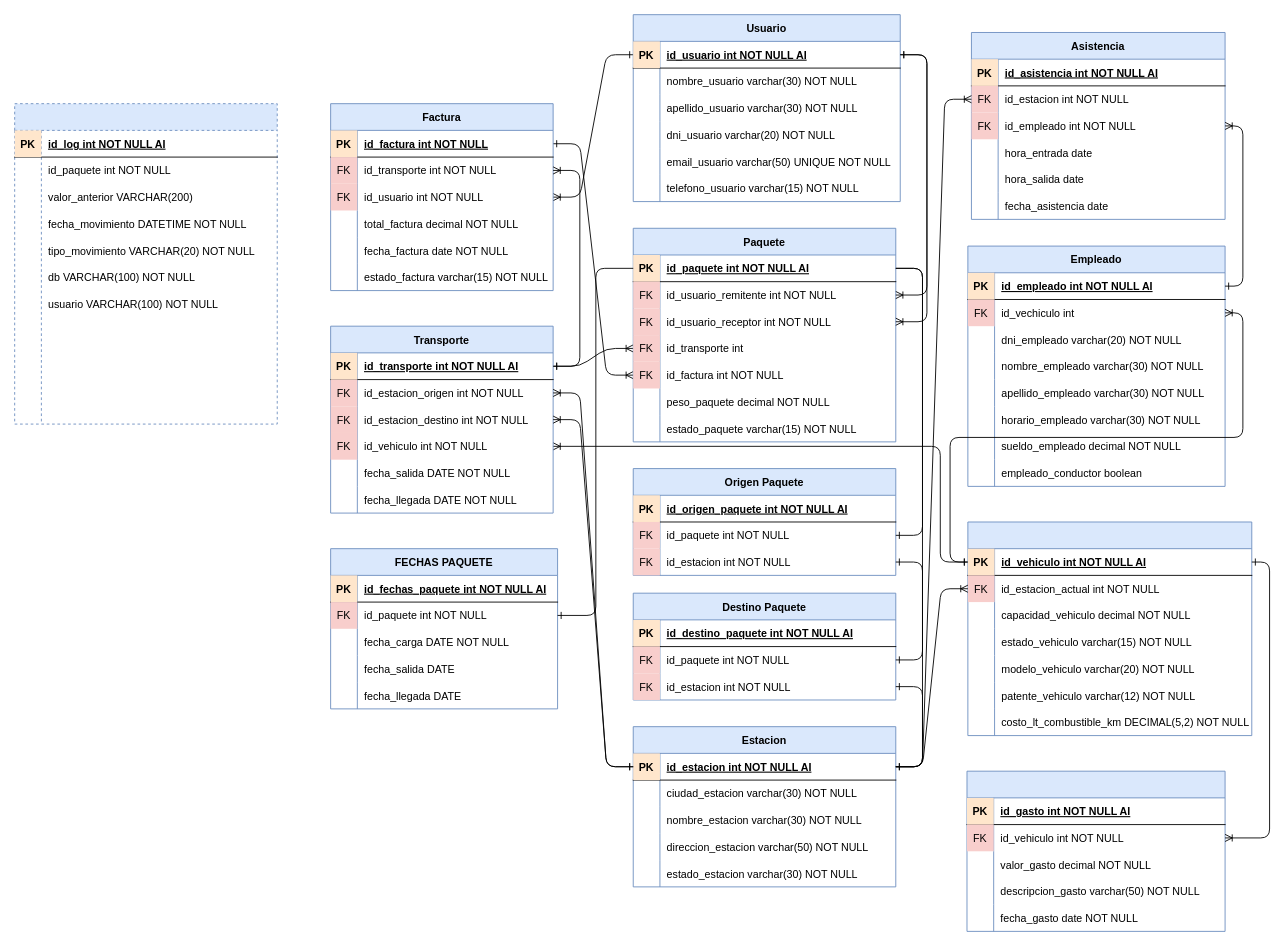
The diagram is 1284 pixels wide and 946 high, and some of its shapes have lost their labels. Here are the shapes that lost their labels. From the top down, the box of each, then its label:
(14, 103, 277, 424): Logs Paquete
(967, 521, 1252, 736): Vehículo
(966, 770, 1225, 931): Gasto Vehículo
